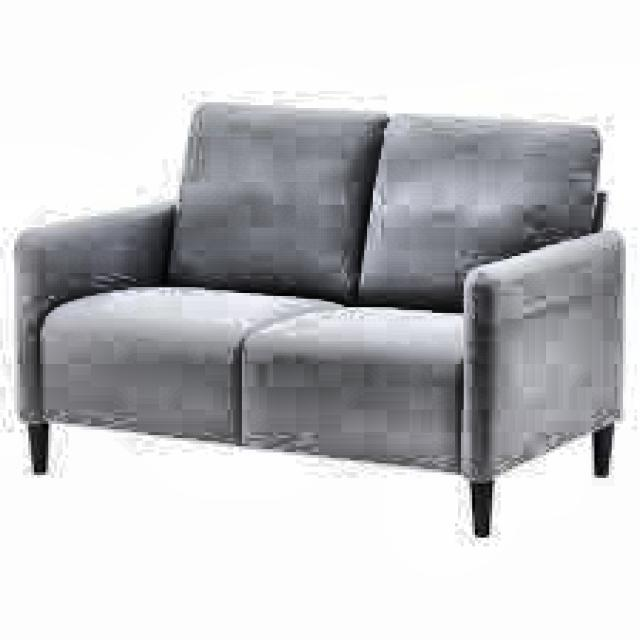sofa: (20, 91, 634, 540)
